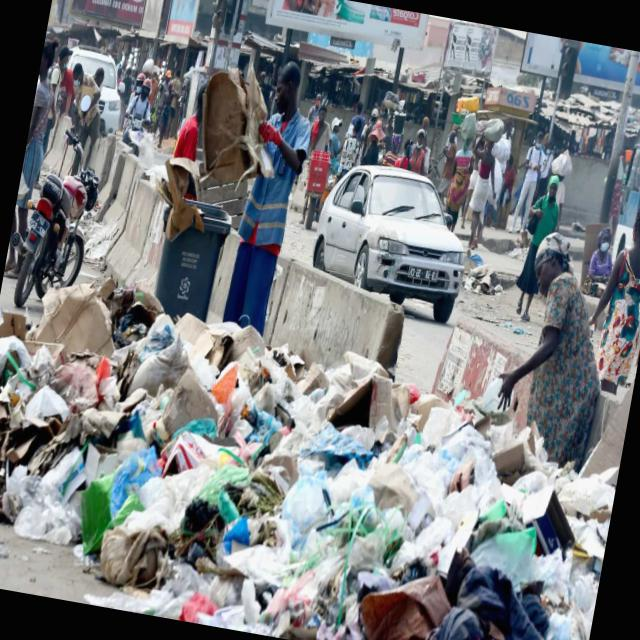garbage: (0, 276, 633, 640)
